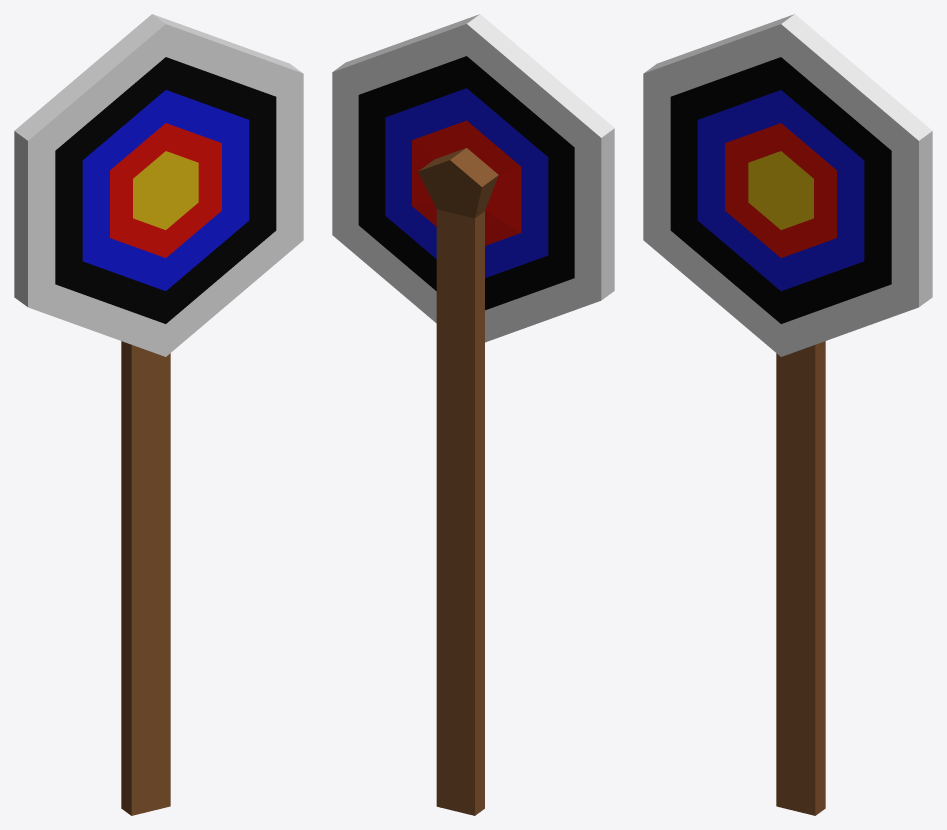
The model's file is target.fbx.
3 renders of one model, left to right at view 1: azimuth 30°, elevation 25°; view 2: azimuth 150°, elevation 25°; view 3: azimuth 330°, elevation 25°, orthographic. The views are drawn at different scales.
Visible parts, largest first — view 1: Circle, Pole; view 2: Circle, Pole; view 3: Circle, Pole.
Boxes of the visible parts, x1,y1,x2,y2 form: Circle: (14,14,303,356); Pole: (121,341,170,815); Circle: (332,14,614,342); Pole: (418,148,498,815); Circle: (643,14,932,356); Pole: (776,341,825,815).
Bounding box in the file's own units: 474 × 1312 × 92.22.
